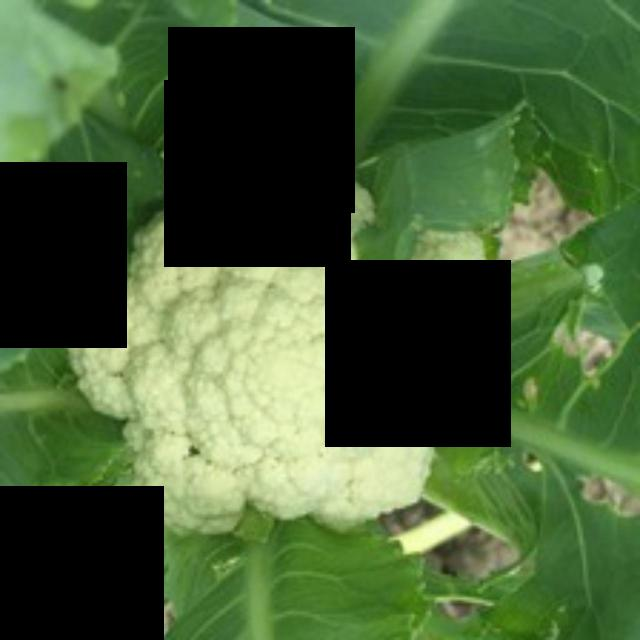cauliflower: (64, 110, 504, 548)
